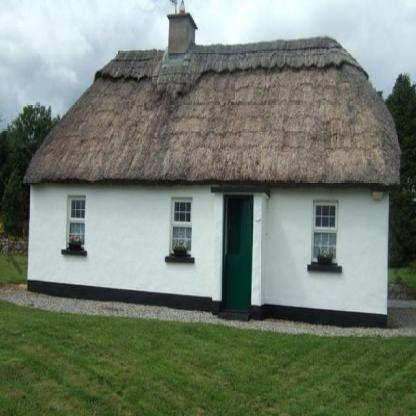Building Outline: (23, 12, 402, 329)
Door: (220, 193, 254, 316)
Facade: (27, 181, 389, 329)
Floor: (27, 181, 389, 329)
Roof: (23, 35, 402, 188)
Sill: (307, 263, 342, 275), (164, 256, 195, 264), (61, 249, 87, 257)
Window: (311, 200, 339, 265), (169, 197, 193, 256), (66, 194, 86, 250)
